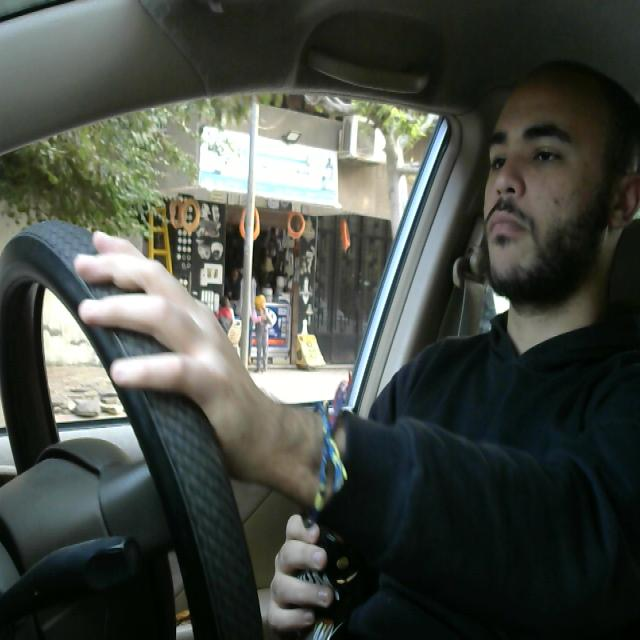eating: (284, 504, 360, 640)
